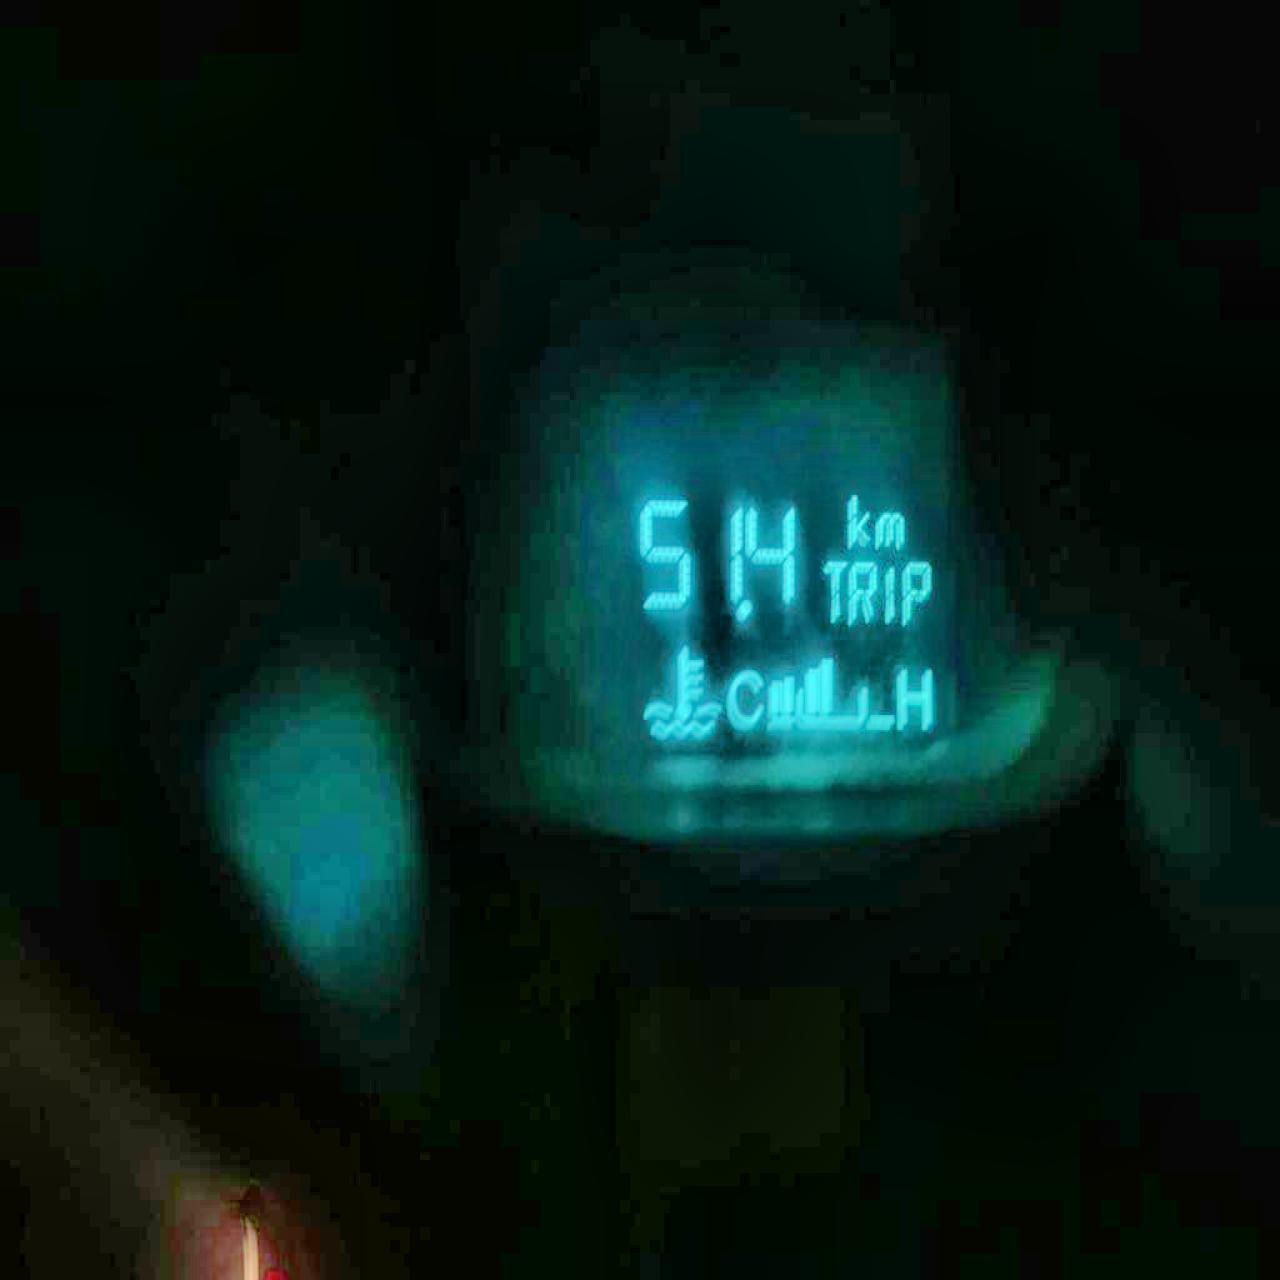-: (732, 595, 752, 623)
1: (722, 500, 742, 607)
4: (742, 503, 798, 602)
5: (633, 492, 695, 613)
X: (721, 665, 765, 732), (894, 662, 932, 733), (898, 556, 934, 626), (845, 556, 877, 626), (841, 492, 871, 552), (820, 555, 845, 623), (872, 508, 908, 550), (878, 562, 898, 623)
odometer: (572, 438, 976, 775)
